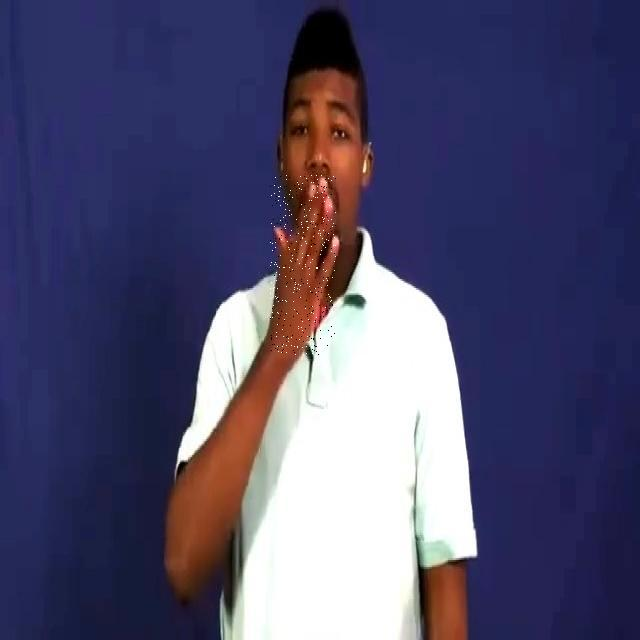napkin: (270, 174, 336, 356)
